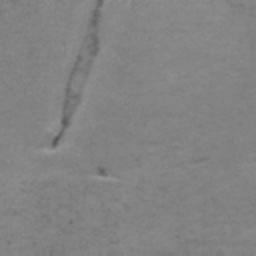Finishing roll printing: (50, 1, 106, 150)
